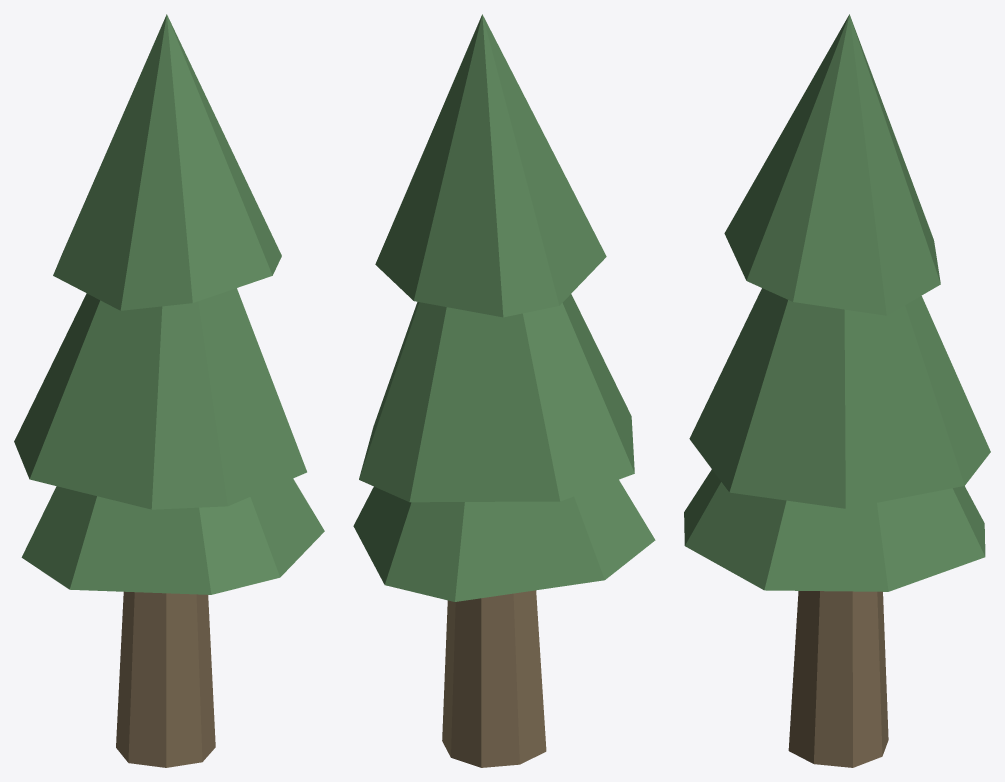
The model's file is Tree2.010.fbx.
3 renders of one model, left to right at view 1: azimuth 30°, elevation 25°; view 2: azimuth 150°, elevation 25°; view 3: azimuth 270°, elevation 25°, orthographic.
Parts seen in each view (by area): view 1: Tree2.010; view 2: Tree2.010; view 3: Tree2.010.
Part boxes in pixels (x1,y1,x2,y2): Tree2.010: (14,14,324,767); Tree2.010: (353,14,655,767); Tree2.010: (684,14,990,767).
Size of the model in its own units: 144 by 385 by 146.
